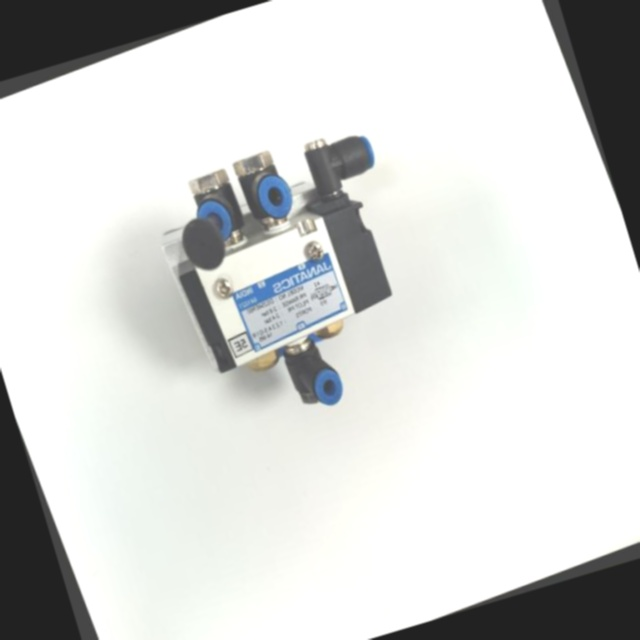5by2 DCV: (119, 84, 469, 461)
